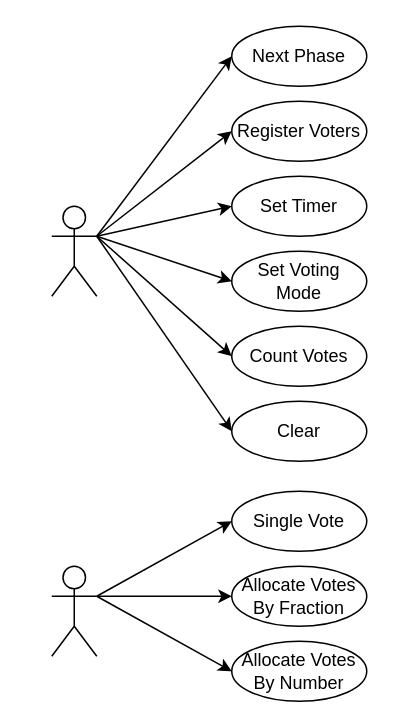
The diagram is 393 pixels wide and 728 high, and some of its shapes have lost their labels. Here are the shapes that lost their labels. From the top down, the centre of each, then its label:
point (73, 250): Chairperson
point (73, 610): Shareholder
